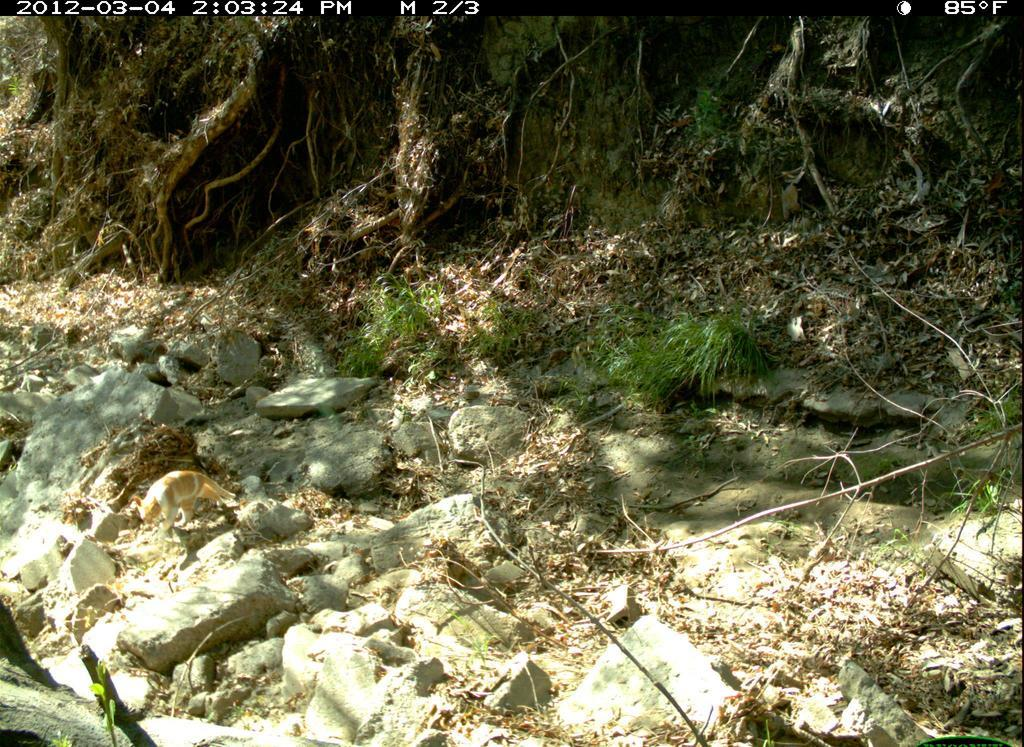cat: (132, 470, 239, 533)
